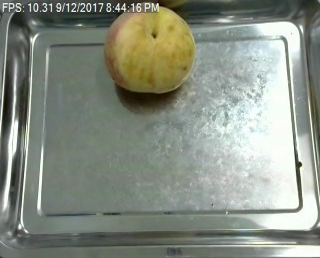Peach: (104, 3, 196, 93)
